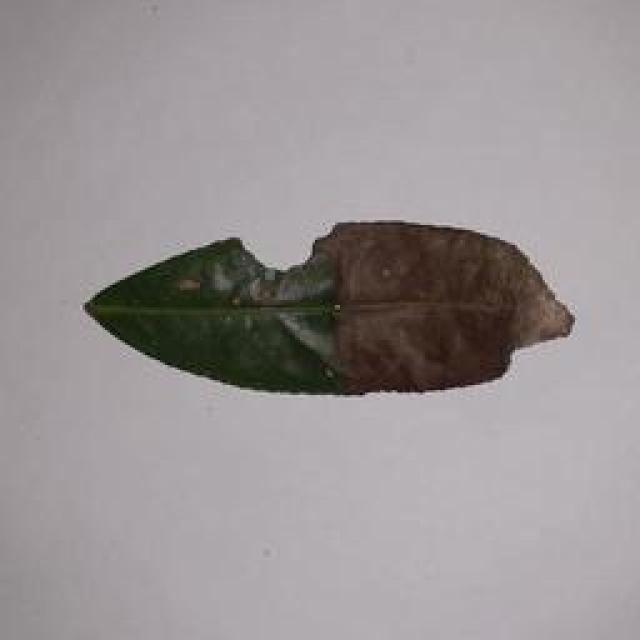Brown Blight: (76, 210, 580, 410)
